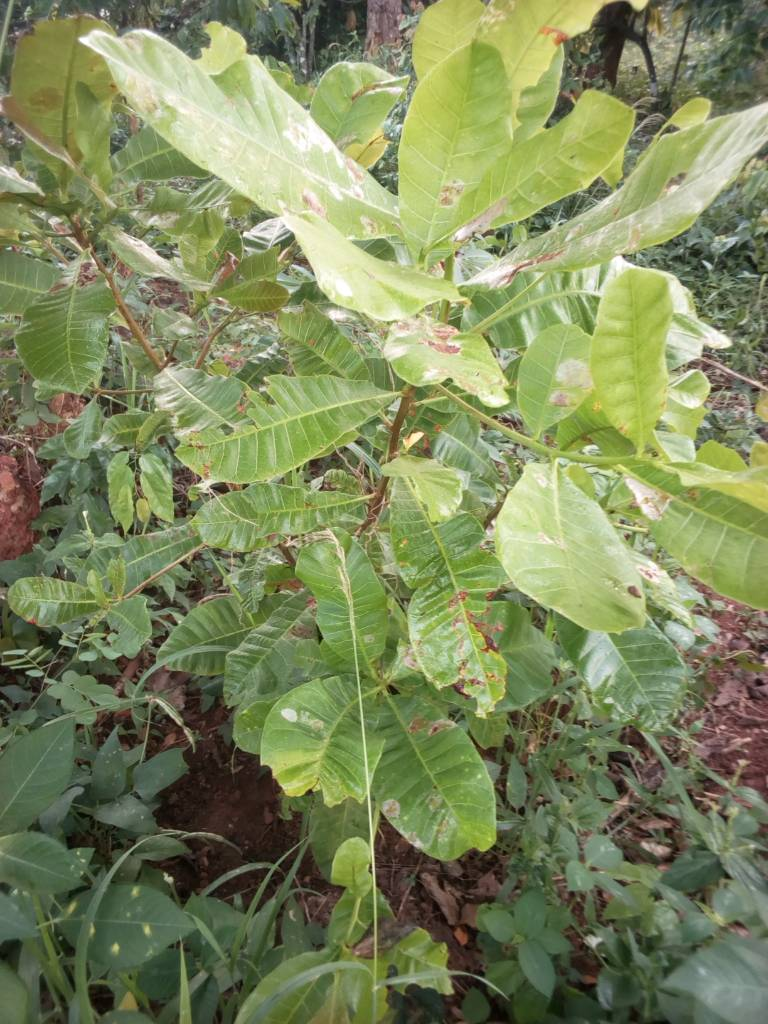Anoplonemis curvipes: (415, 538, 515, 713)
